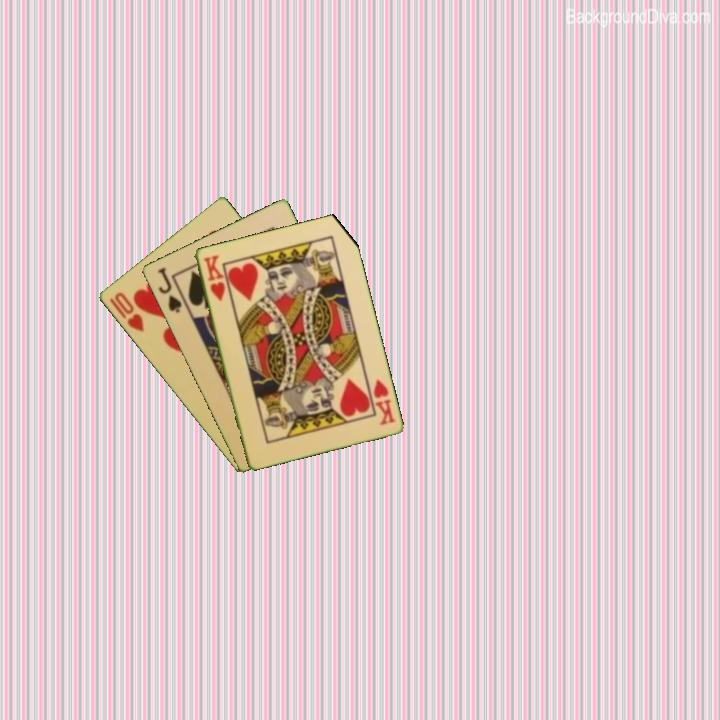10h: (105, 288, 147, 335)
Js: (154, 263, 184, 316)
Kh: (199, 251, 228, 304), (369, 375, 398, 428)
